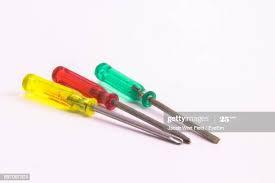screwdriver: (20, 72, 183, 145), (50, 64, 191, 143), (93, 61, 219, 144)
